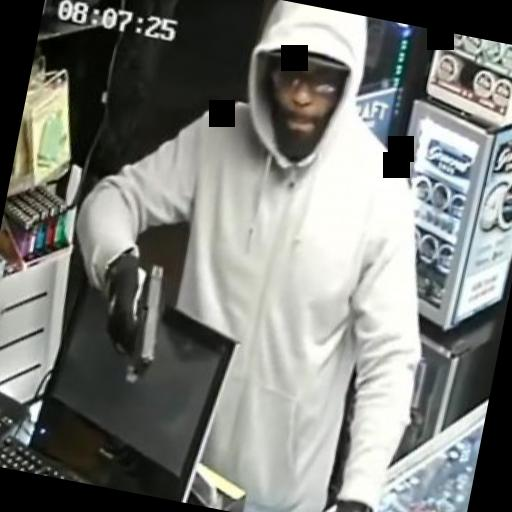Handgun: (88, 248, 178, 388)
